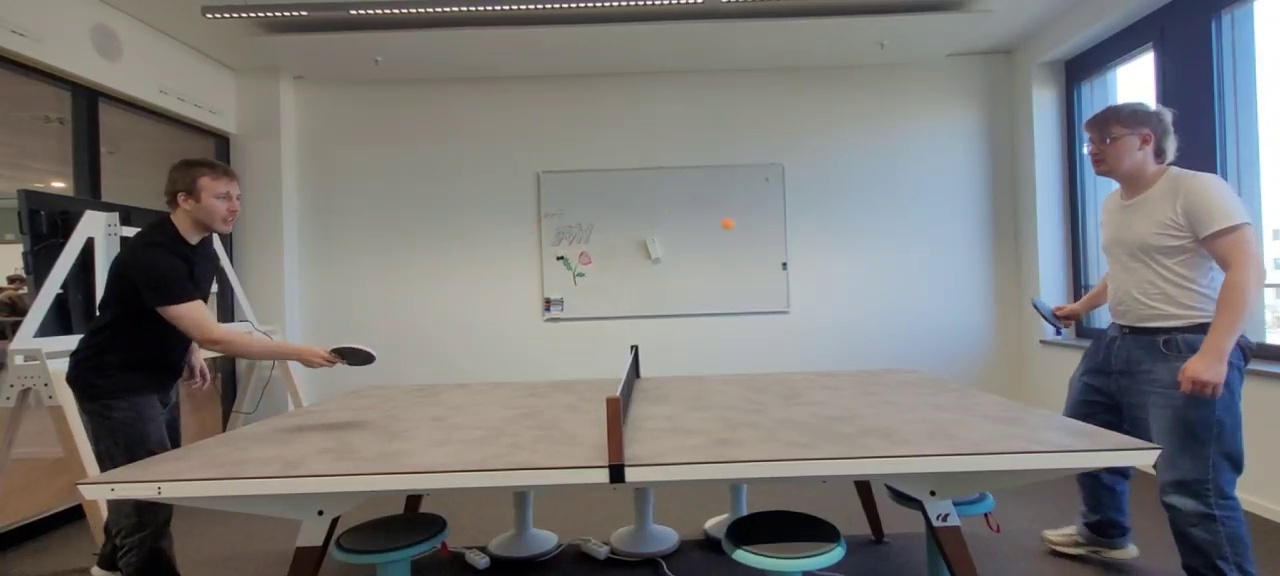plate: (77, 367, 1160, 483)
racket: (1032, 298, 1064, 329), (329, 345, 376, 366)
ttball: (720, 217, 734, 230)
